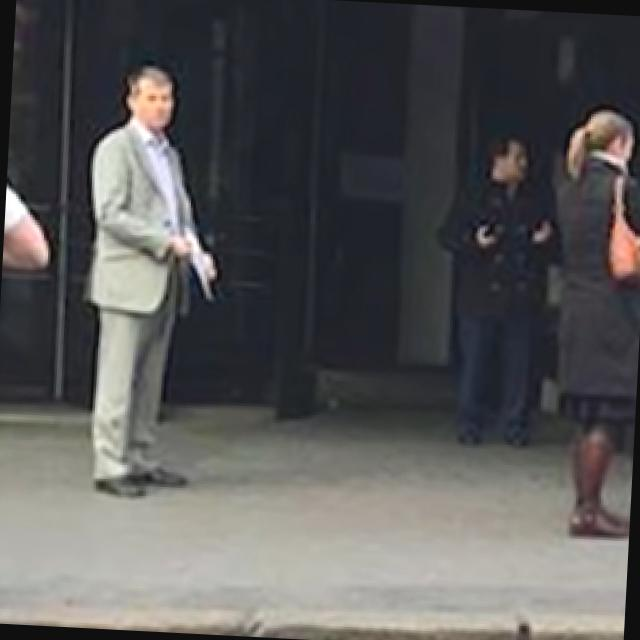person: (74, 62, 225, 502), (534, 107, 640, 541), (426, 134, 565, 452)
